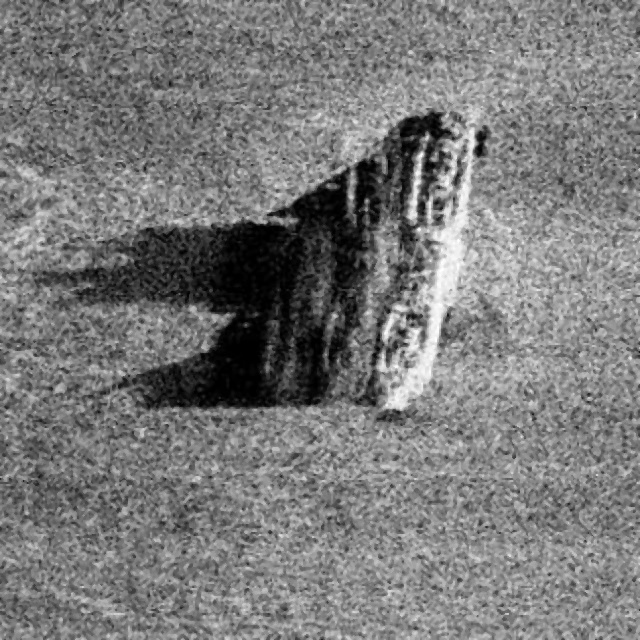Ship: (265, 89, 492, 428)
